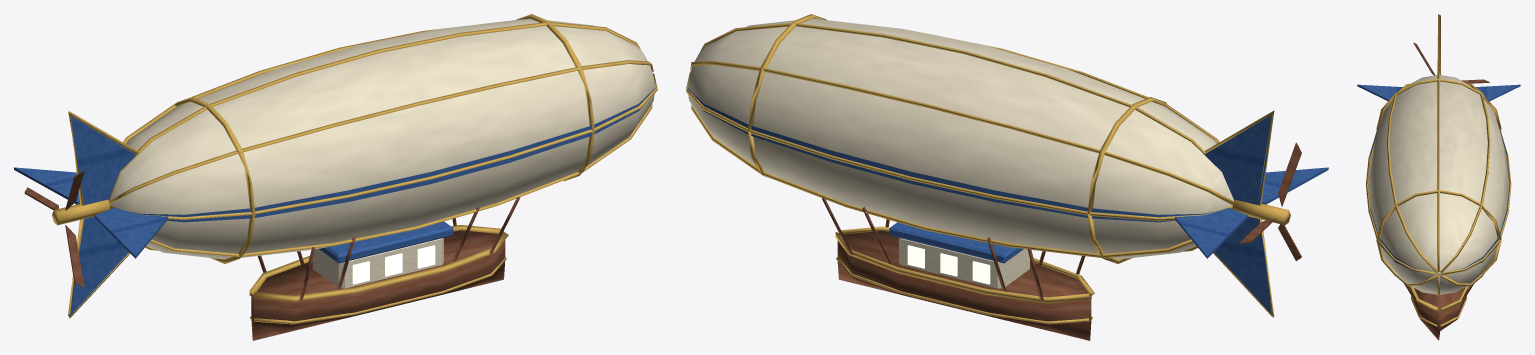
The model's file is fantasy-airship-balanced.glb.
3 renders of one model, left to right at view 1: azimuth 30°, elevation 25°; view 2: azimuth 150°, elevation 25°; view 3: azimuth 270°, elevation 25°, orthographic. The views are drawn at different scales.
Visible parts, largest first — view 1: fantasy-airship; view 2: fantasy-airship; view 3: fantasy-airship.
Part boxes in pixels (x1,y1,x2,y2): fantasy-airship: (14, 14, 657, 340); fantasy-airship: (686, 14, 1328, 340); fantasy-airship: (1357, 14, 1520, 340).
Size of the model in its own units: 8.78 by 3.87 by 3.1.
5 materials, 5 textured.
